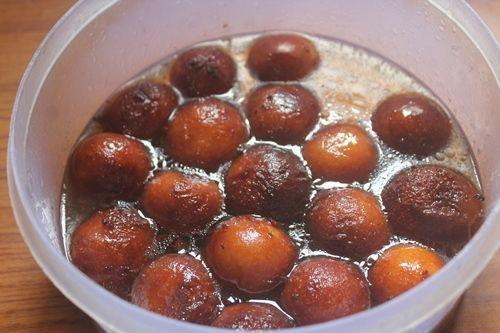GulabJamun: (380, 163, 486, 246), (204, 214, 298, 295), (70, 205, 158, 287), (225, 142, 311, 223), (130, 252, 225, 325), (280, 255, 374, 326), (308, 186, 392, 260), (162, 97, 248, 167), (66, 132, 152, 200), (141, 166, 224, 236), (92, 75, 180, 136), (372, 93, 452, 158), (368, 242, 448, 304), (302, 121, 378, 184), (245, 82, 321, 143), (171, 45, 237, 97), (246, 33, 320, 79), (209, 301, 296, 331)
